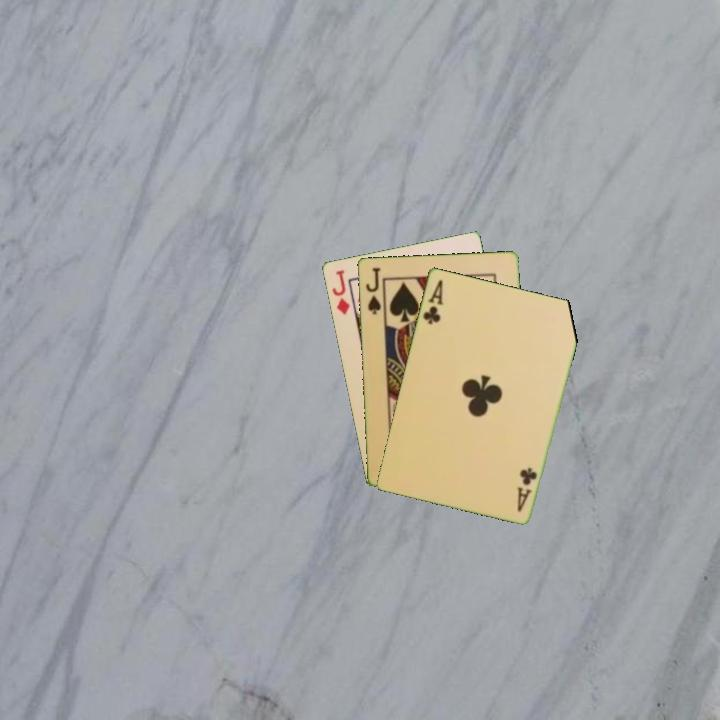Ac: (419, 276, 446, 327), (513, 463, 540, 514)
Jd: (328, 266, 352, 317)
Js: (362, 264, 383, 317)
